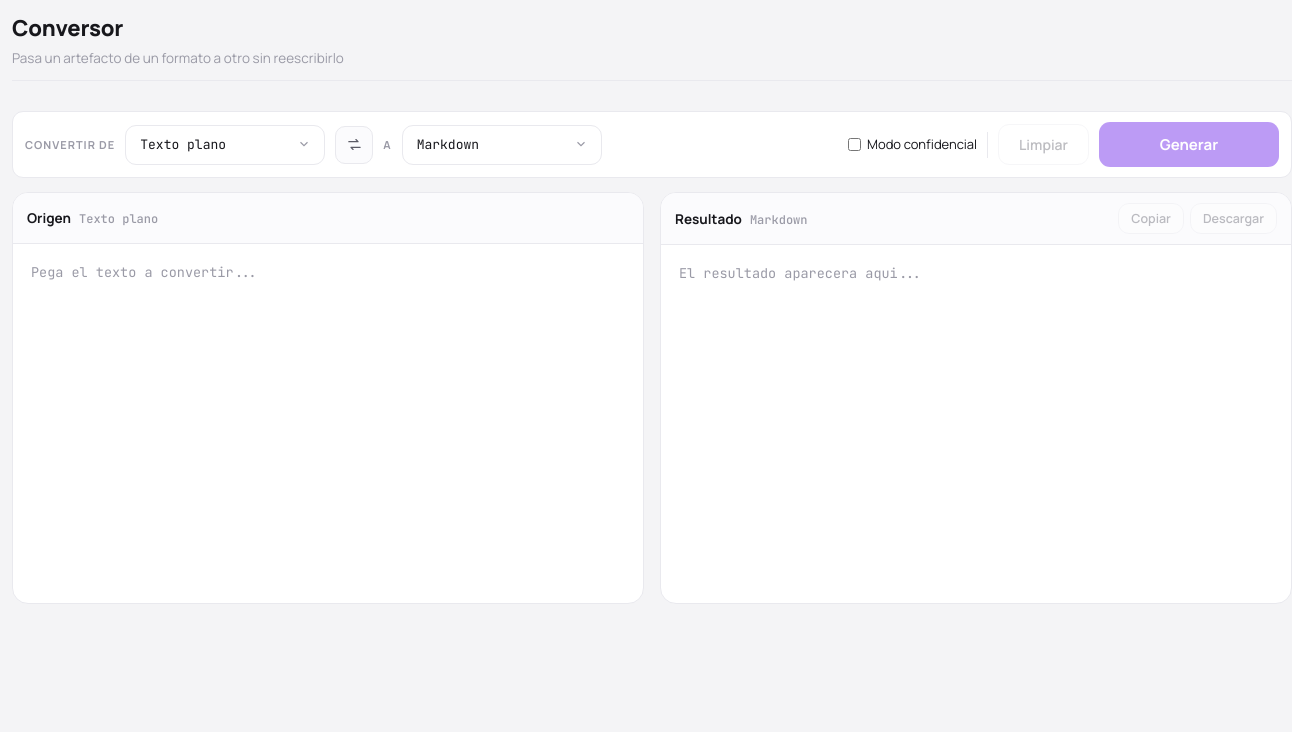
Test: ConverterTool — intercambiar formatos › mueve el resultado a la entrada y vacia el panel al intercambiar
Type "texto origen" into the text box with placeholder "Pega el texto a convertir..." at coordinates (328, 424), box [17,248,639,599]
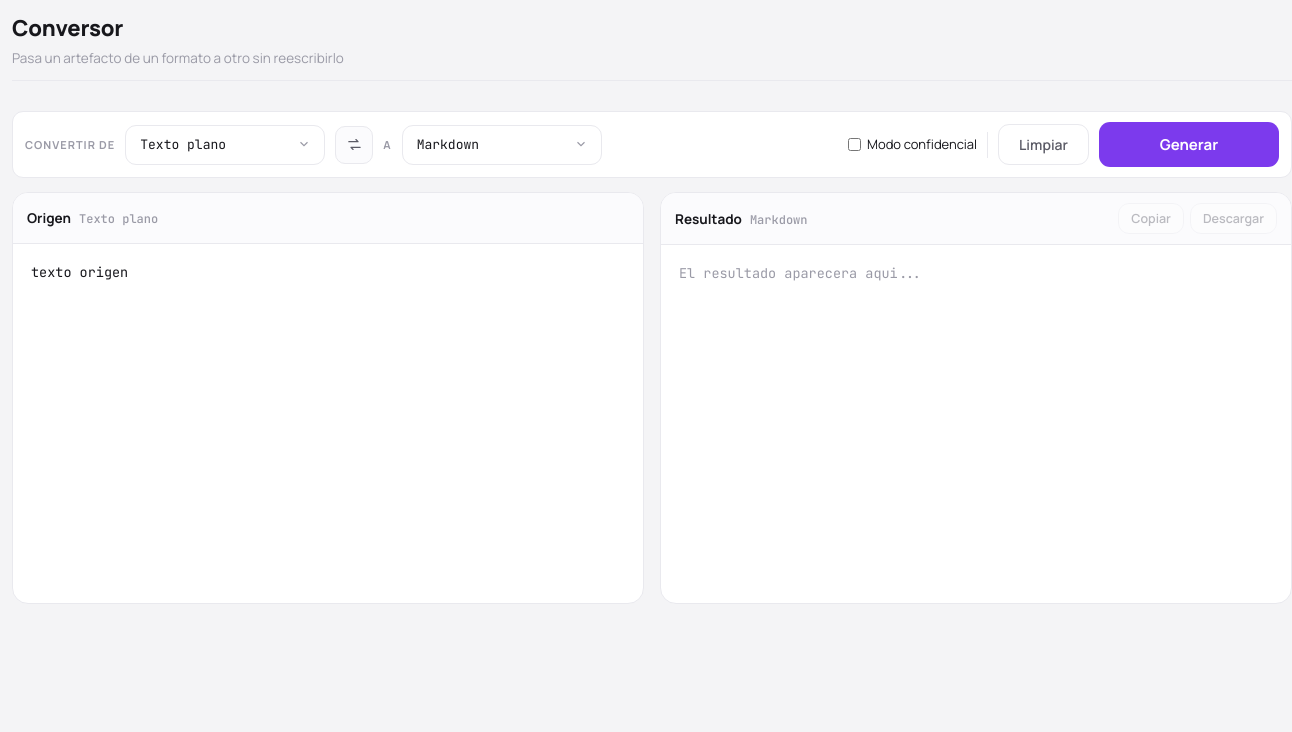
Click the button "Generar" at coordinates (1189, 145), box [1099,122,1279,167]
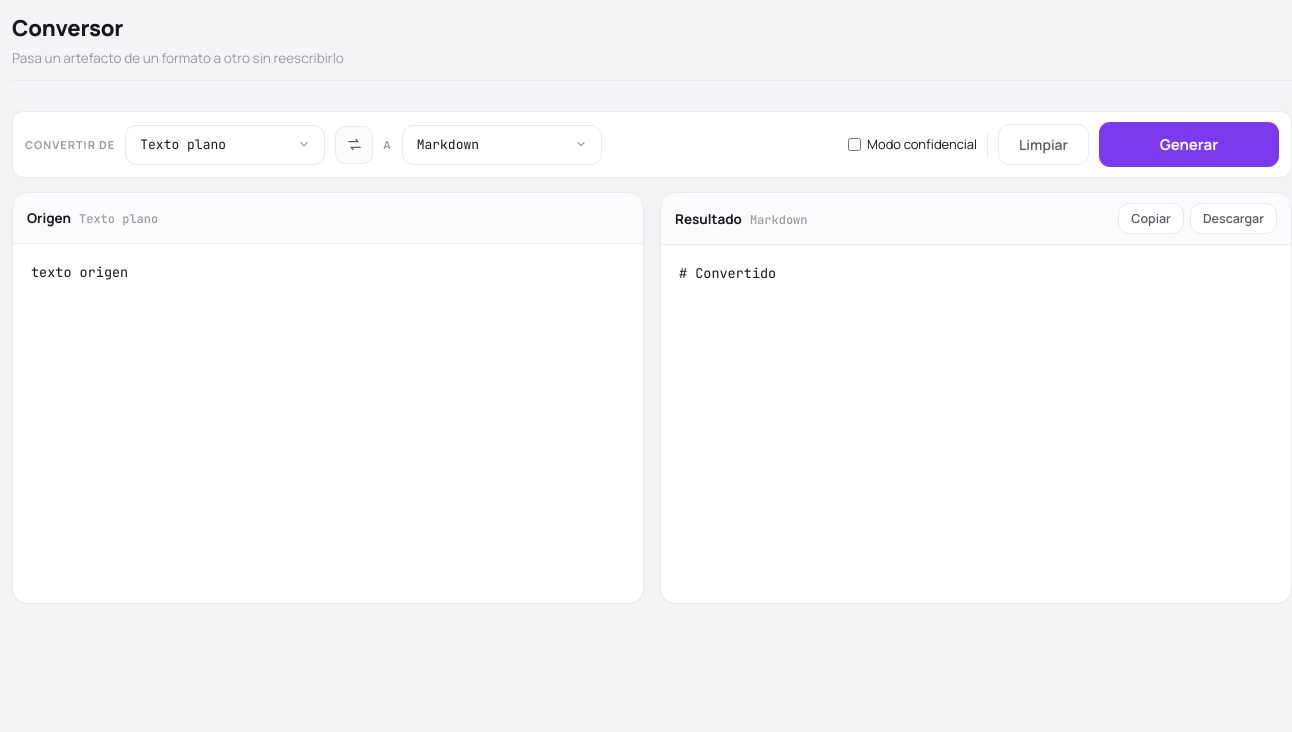
Now the text box below "Resultado" holds "# Convertido", box [665,249,1287,599]
Click the button named "intercambiar formatos" at coordinates (354, 145), box [335,126,373,164]
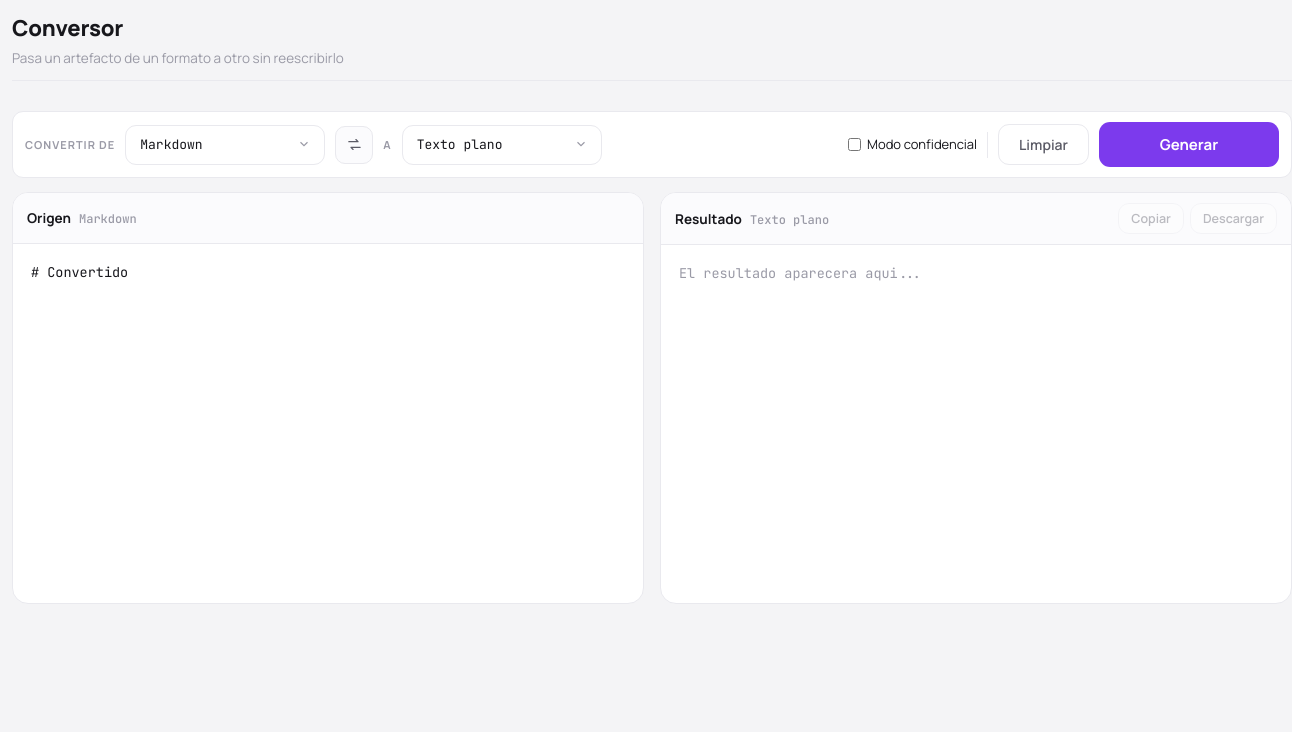
Now the 1st text box holds "# Convertido", box [17,248,639,599]
Now the text box with placeholder "El resultado aparecera aqui..." is empty, box [665,249,1287,599]
